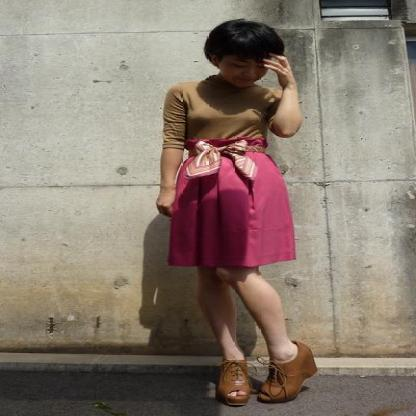shirt: (162, 73, 286, 141)
shoe: (208, 341, 323, 407)
skirt: (164, 132, 298, 270)
